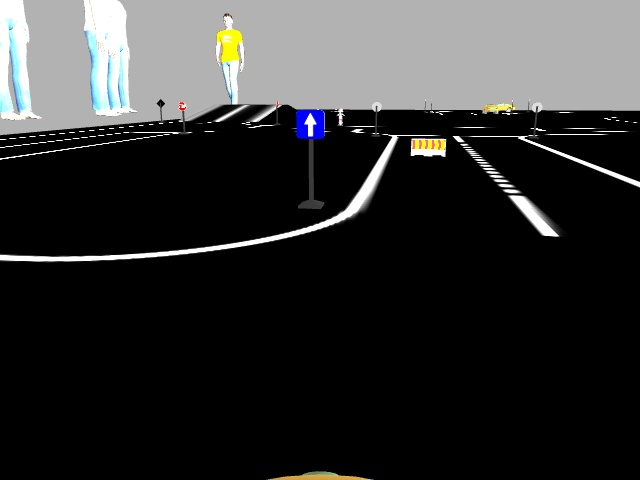ClosedRoadStand: (412, 138, 445, 156)
OneWay: (296, 110, 324, 138)
